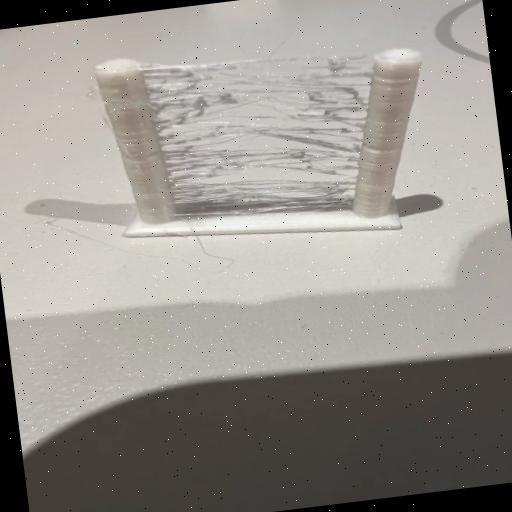stringing: (145, 57, 369, 211)
